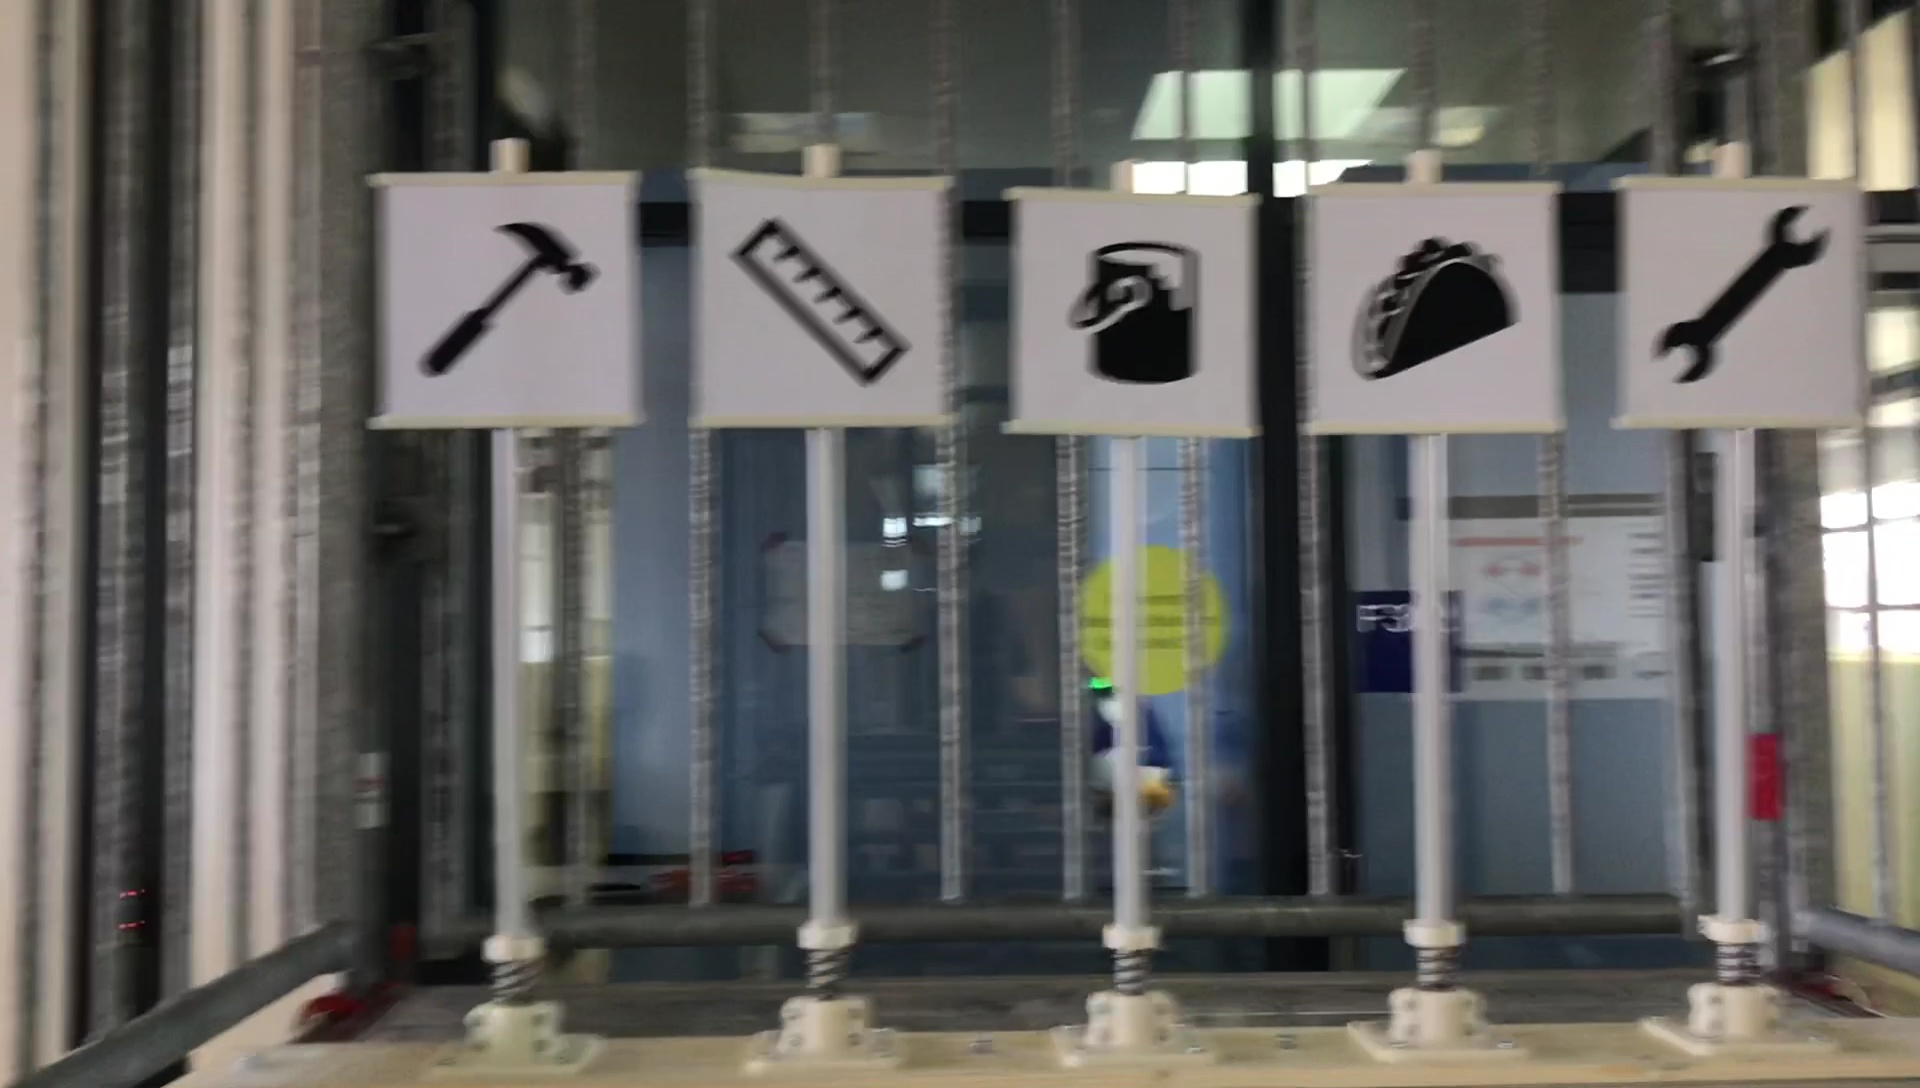bucket: (1064, 227, 1211, 390)
ruler: (731, 210, 909, 386)
taco: (1348, 231, 1515, 389)
wrench: (1654, 199, 1832, 386), (421, 208, 600, 378)
